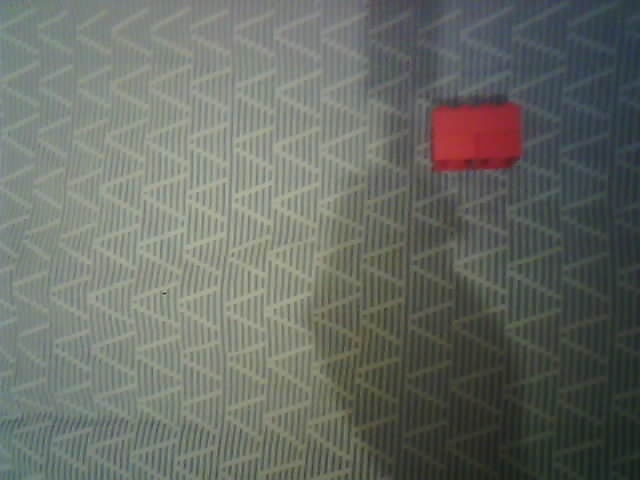lego: (429, 102, 524, 173)
